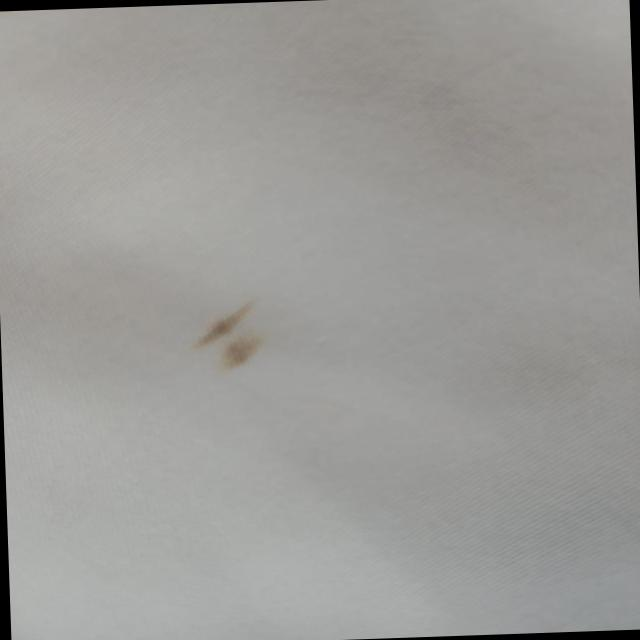stain: (182, 296, 282, 382)
